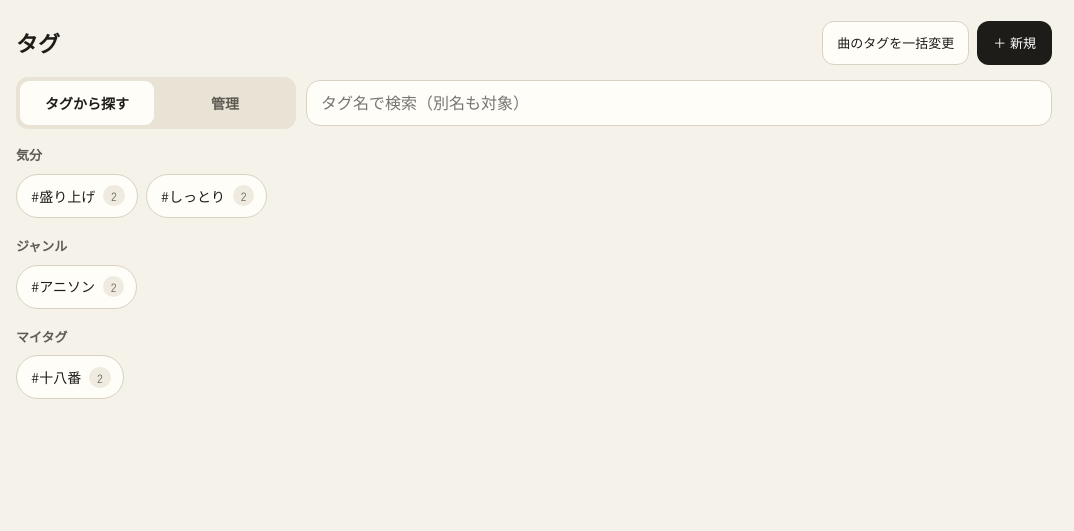
Test case: TagsScreen: 新規作成 › タグを作る（グループを選べる）
Click the button "＋ 新規" at (1015, 43), box [977,21,1052,65]
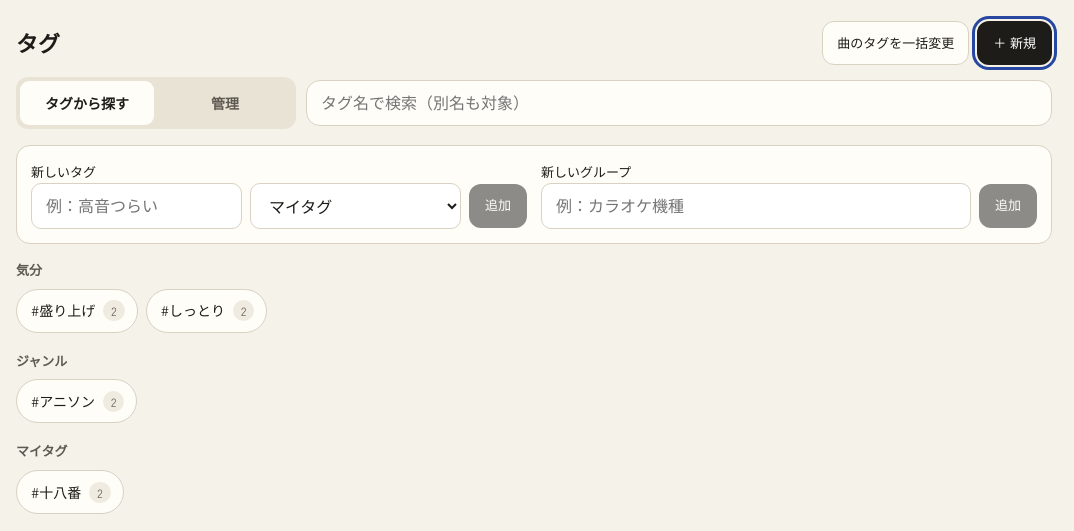
Expected: the 1st button "追加" is disabled, [469,184,527,228]
Type "高音つらい" into the field labelled "新しいタグ" at (136, 206), box [31,183,242,229]
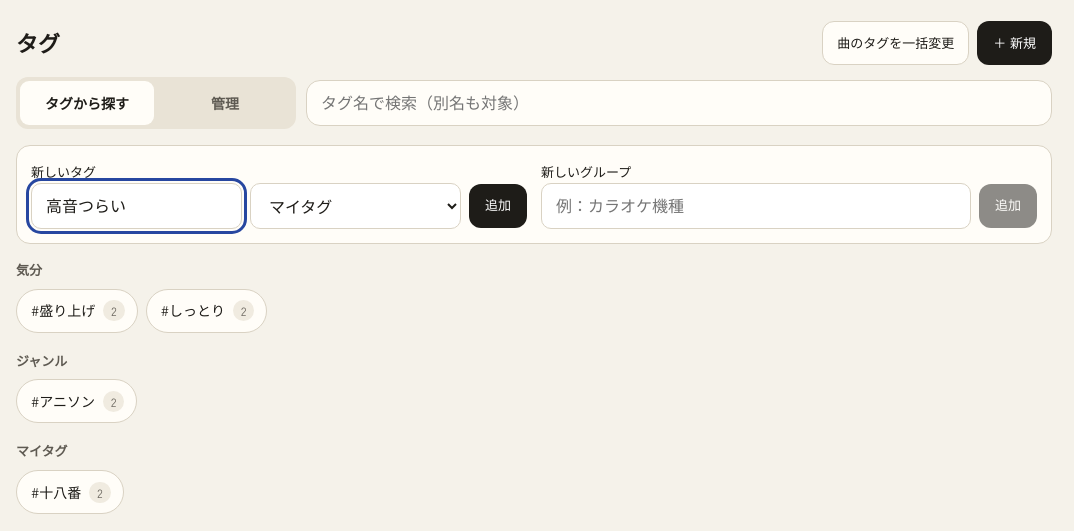
Select "ジャンル" in the dropdown named "グループ" at (356, 206), box [250,183,461,229]
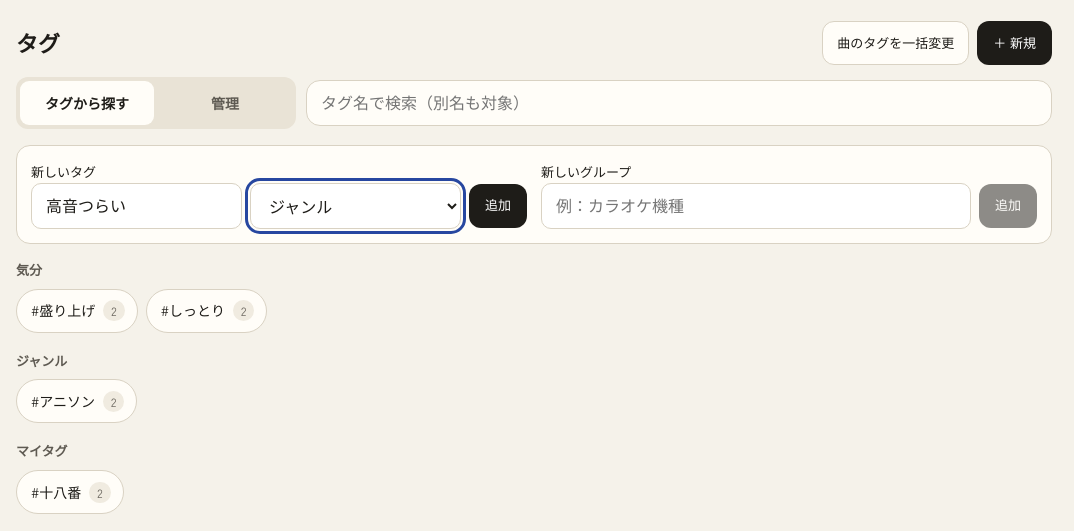
Click the 1st button "追加" at (498, 206), box [469,184,527,228]
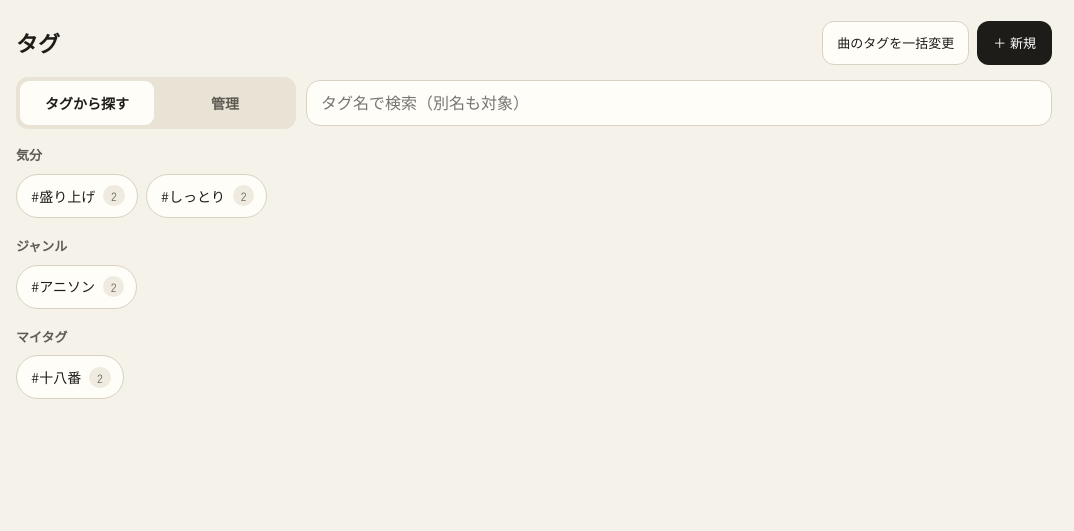
Expected: the label labelled "新しいタグ" is gone
